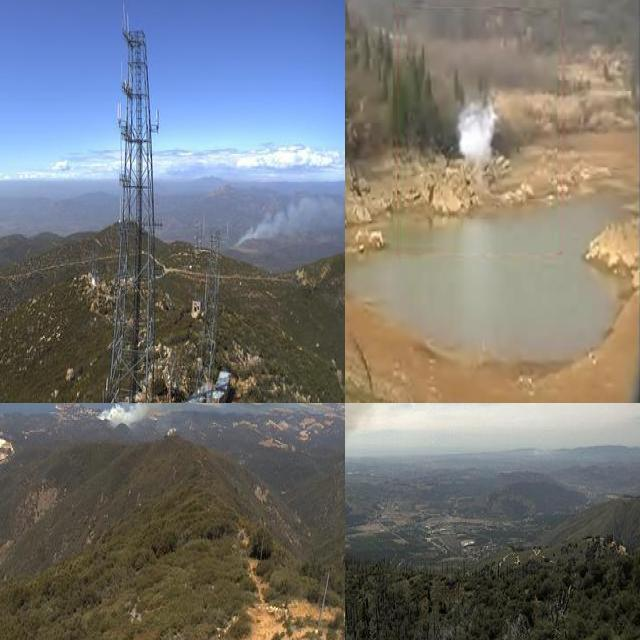smoke: (232, 188, 345, 251), (456, 102, 493, 164)
